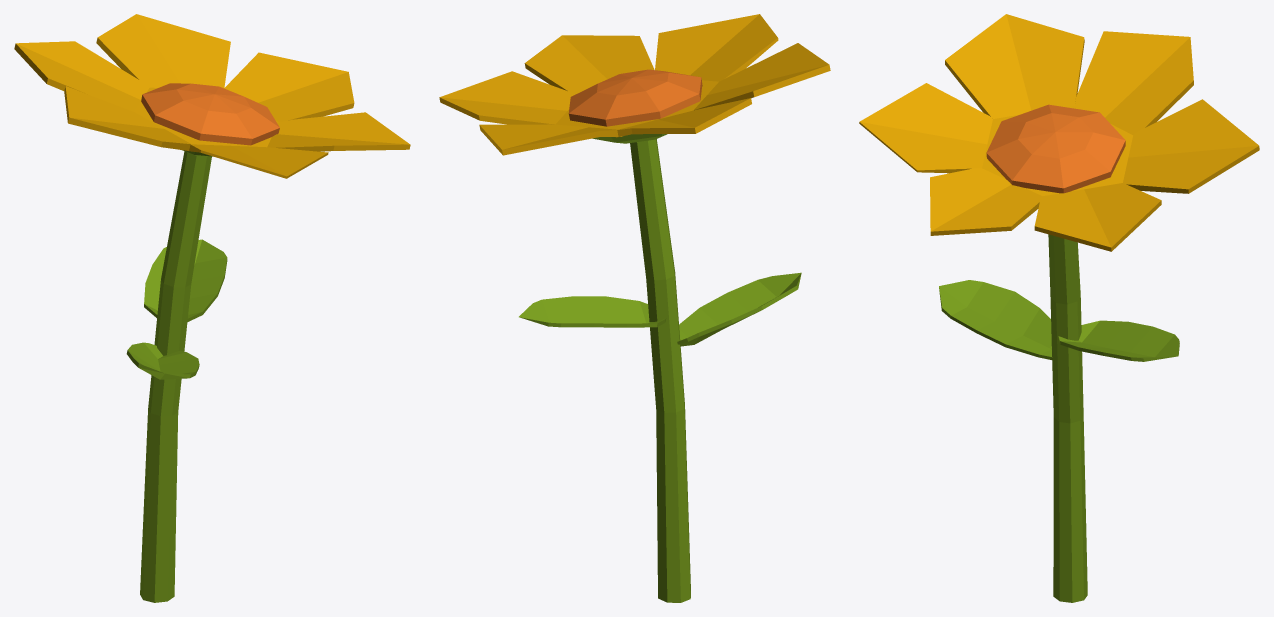
Rendered from flower-6.glb.
3 views of the same model, side by side, from view 1: azimuth 30°, elevation 25°; view 2: azimuth 150°, elevation 25°; view 3: azimuth 270°, elevation 25° (orthographic). The views are drawn at different scales.
Parts seen in each view (by area): view 1: Flower 6; view 2: Flower 6; view 3: Flower 6.
Boxes of the visible parts, left/top/right/bottom form: Flower 6: left=14, top=14, right=410, bottom=602; Flower 6: left=439, top=14, right=830, bottom=602; Flower 6: left=859, top=14, right=1259, bottom=602.
Size of the model in its own units: 1.41 by 2.15 by 1.49.
